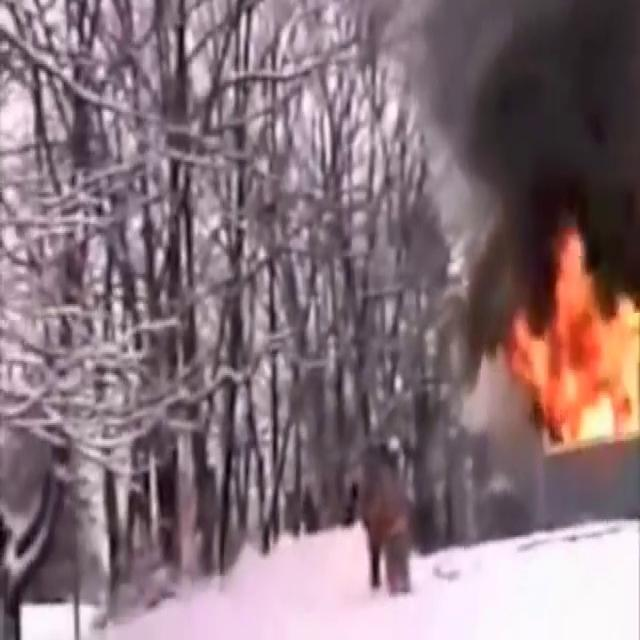Fire: (509, 222, 640, 459)
Smoke: (403, 0, 640, 281)
